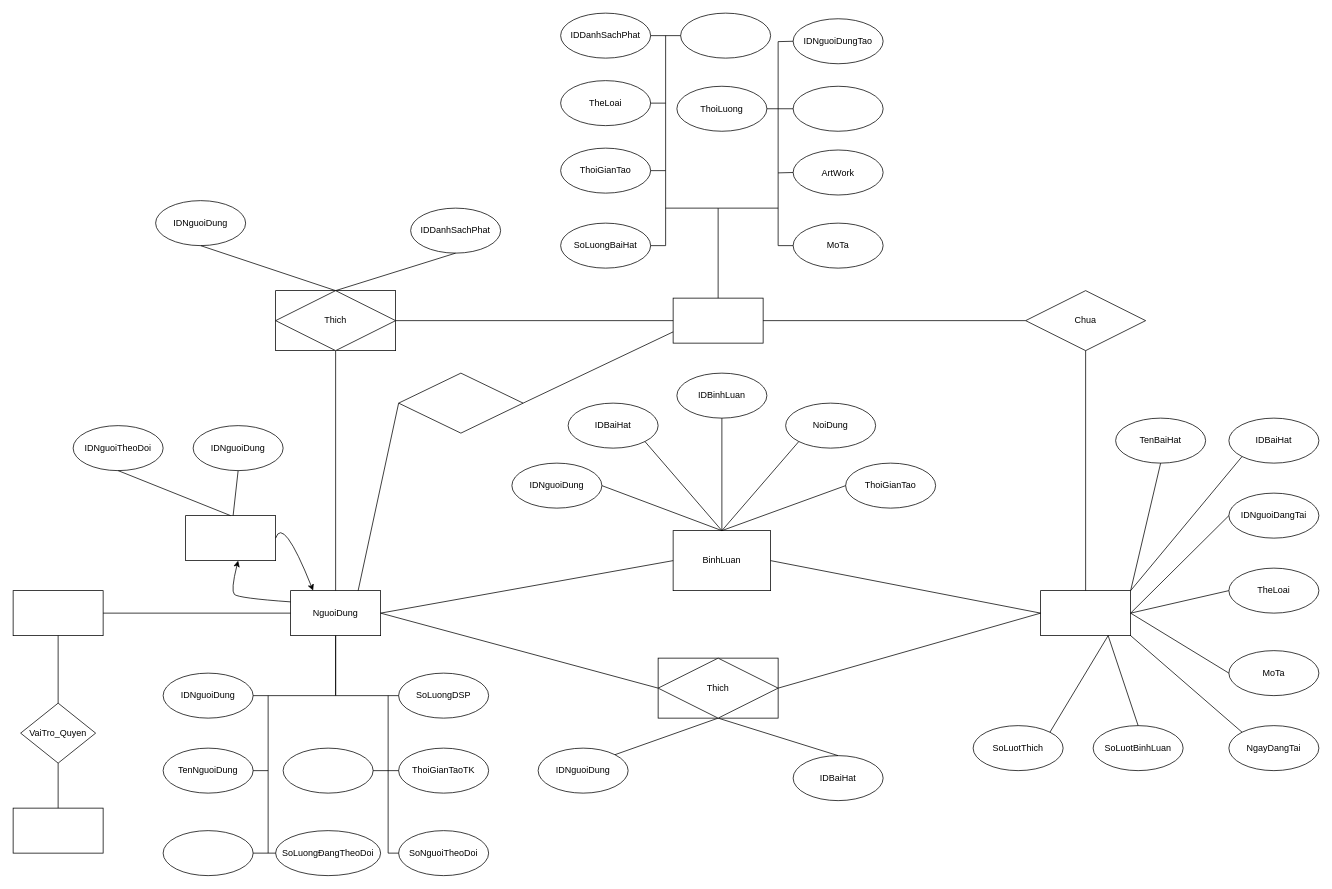
This 1332x889 diagram has some shape labels left out. The shapes that lost their labels are listed below. From the top down, each one's centre as x and y in pixels, then its label:
At (725,35): "TieuDe".
At (837,108): "LanSuaCuoi".
At (717,320): "DanhSachPhat".
At (460,402): "SoHuu".
At (230,538): "TheoDoi".
At (57,613): "VaiTro".
At (1085,613): "BaiHat".
At (327,770): "SoLuongBHYeuThich".
At (57,830): "Quyen".
At (207,853): "DiaChi".
